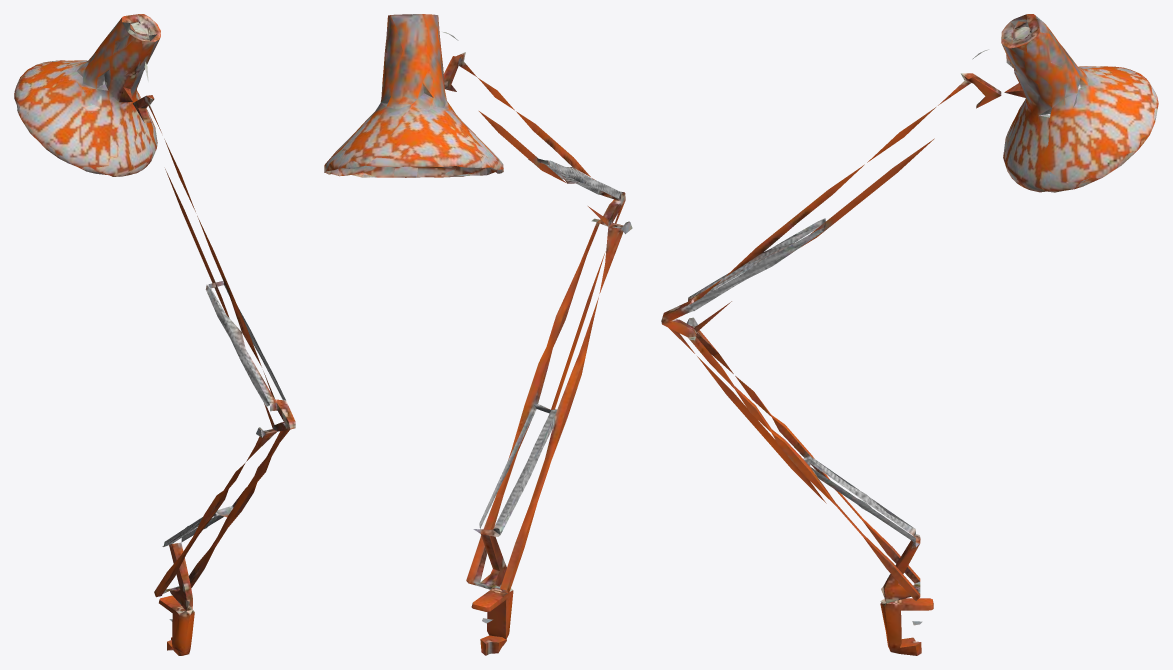
Rendered from desk_lamp.glb.
3 renders of one model, left to right at view 1: azimuth 30°, elevation 25°; view 2: azimuth 150°, elevation 25°; view 3: azimuth 270°, elevation 25°, orthographic. The views are drawn at different scales.
Parts seen in each view (by area): view 1: mesh; view 2: mesh; view 3: mesh.
Part boxes in pixels (x1,y1,x2,y2): mesh: (14,14,295,655); mesh: (324,14,632,655); mesh: (661,14,1158,655).
Bounding box in the file's own units: 0.2075 × 0.89 × 0.6259.
1 material, 1 textured.
